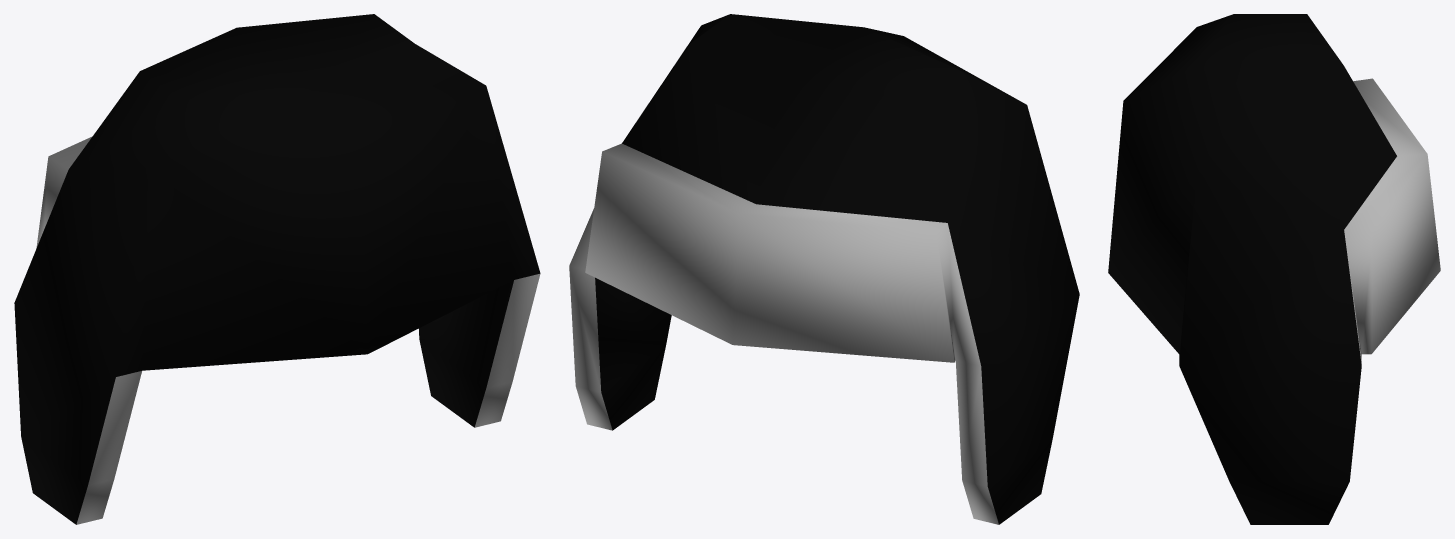
The model's file is hat7.fbx.
3 renders of one model, left to right at view 1: azimuth 30°, elevation 25°; view 2: azimuth 150°, elevation 25°; view 3: azimuth 270°, elevation 25°, orthographic. The views are drawn at different scales.
Visible parts, largest first — view 1: Cylinder.001; view 2: Cylinder.001; view 3: Cylinder.001.
Part boxes in pixels (x1,y1,x2,y2): Cylinder.001: (14, 14, 540, 524); Cylinder.001: (569, 14, 1079, 524); Cylinder.001: (1108, 14, 1440, 524).
Bounding box in the file's own units: 1.48 × 1.36 × 1.12.
1 material, 1 textured.
